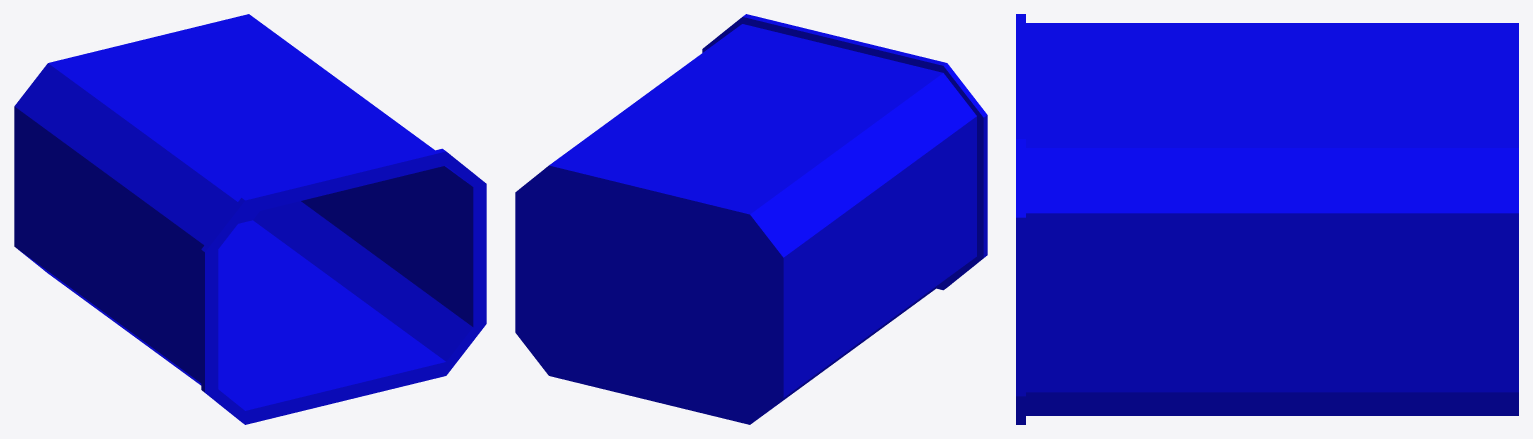
File: nil_link_mesh.dae
3 renders of one model, left to right at view 1: azimuth 30°, elevation 25°; view 2: azimuth 150°, elevation 25°; view 3: azimuth 270°, elevation 25°, orthographic. The views are drawn at different scales.
Visible parts, largest first — view 1: nil_link (×3); view 2: nil_link (×3); view 3: nil_link (×3).
Part boxes in pixels (<box>): nil_link (×3): <box>14,14,486,424</box>; nil_link (×3): <box>515,14,987,424</box>; nil_link (×3): <box>1016,14,1518,424</box>.
Bounding box in the file's own units: 0.42 × 0.32 × 0.51.
